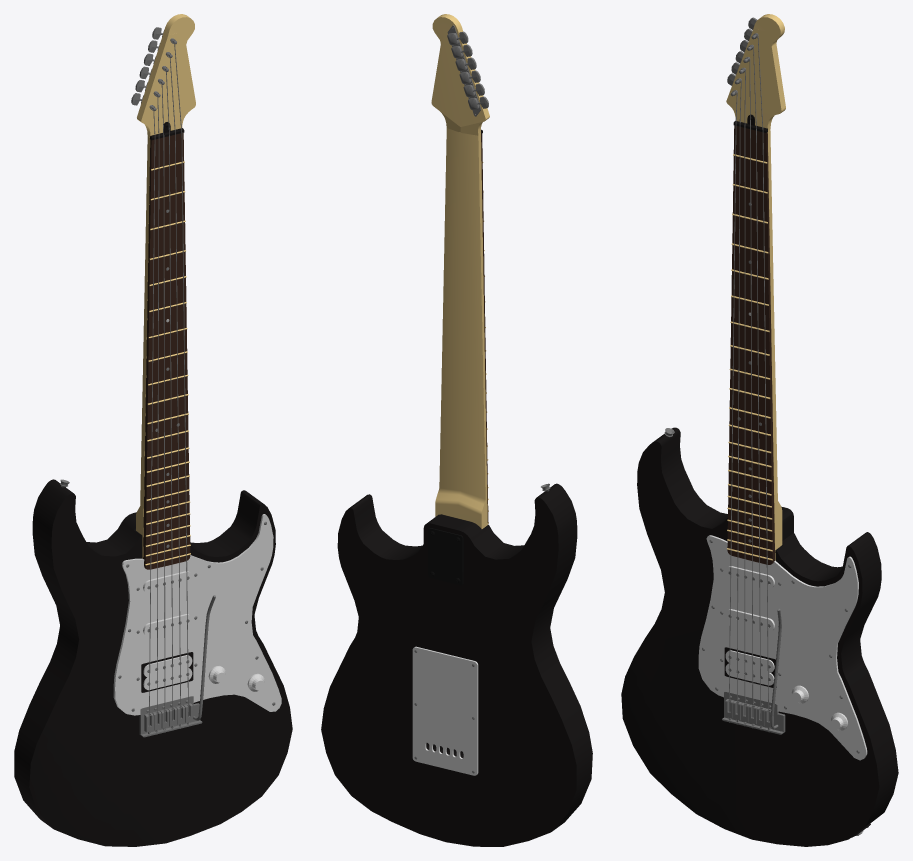
The model's file is pacifica.glb.
3 views of the same model, side by side, from view 1: azimuth 30°, elevation 25°; view 2: azimuth 150°, elevation 25°; view 3: azimuth 330°, elevation 25° (orthographic). The views are drawn at different scales.
Parts seen in each view (by area): view 1: pCube53, pCube8, pCube7, pCube6, pCylinder113, pasted__pCube2, pHelix5, pHelix8, pHelix7, pHelix6, pHelix2, pHelix4 (+6 smaller); view 2: pCube53, pasted__pCube2, pCube51, pCube6, pCube58, pSphere41, pCube7; view 3: pCube53, pCube8, pCube7, pCube6, pCylinder113, pasted__pCube2, pHelix5, pHelix8, pHelix7, pHelix6, pHelix4, pHelix2 (+5 smaller).
Boxes of the visible parts, bbox=[...] form: pCube53: bbox=[14, 479, 292, 846]; pCube8: bbox=[113, 514, 281, 715]; pCube7: bbox=[143, 132, 190, 569]; pCube6: bbox=[137, 14, 195, 137]; pCylinder113: bbox=[145, 161, 190, 565]; pasted__pCube2: bbox=[136, 137, 150, 558]; pHelix5: bbox=[158, 79, 165, 722]; pHelix8: bbox=[171, 38, 188, 716]; pHelix7: bbox=[166, 52, 180, 718]; pHelix6: bbox=[162, 66, 173, 720]; pHelix2: bbox=[149, 105, 155, 726]; pHelix4: bbox=[154, 91, 159, 724]; pCube53: bbox=[321, 483, 592, 846]; pasted__pCube2: bbox=[435, 128, 487, 528]; pCube51: bbox=[412, 646, 478, 775]; pCube6: bbox=[431, 14, 489, 135]; pCube58: bbox=[428, 528, 463, 585]; pSphere41: bbox=[447, 25, 488, 116]; pCube7: bbox=[481, 132, 488, 524]; pCube53: bbox=[621, 427, 898, 846]; pCube8: bbox=[698, 535, 867, 760]; pCube7: bbox=[727, 125, 774, 564]; pCube6: bbox=[726, 14, 785, 130]; pCylinder113: bbox=[727, 154, 772, 560]; pasted__pCube2: bbox=[767, 129, 782, 560]; pHelix5: bbox=[740, 68, 745, 716]; pHelix8: bbox=[753, 33, 768, 721]; pHelix7: bbox=[748, 45, 761, 719]; pHelix6: bbox=[745, 57, 753, 717]; pHelix4: bbox=[736, 78, 741, 714]; pHelix2: bbox=[729, 90, 737, 712].
Size of the model in its own units: 6.66 by 20.32 by 1.43.
